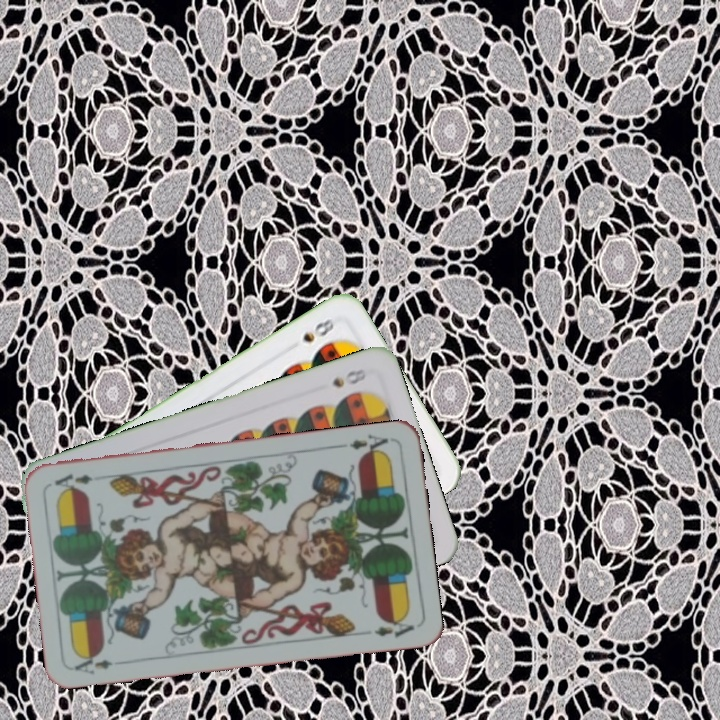EA: (70, 649, 129, 677), (345, 430, 391, 459)
S8: (298, 314, 337, 346), (328, 364, 369, 390)
